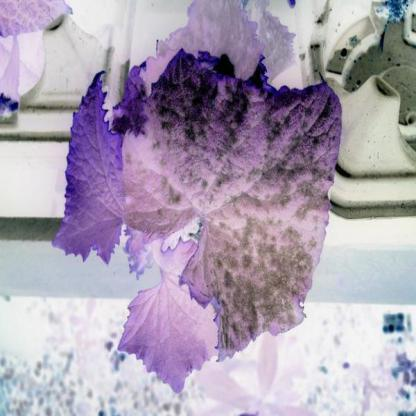squash powdery mildew leaf: (110, 63, 342, 368)
